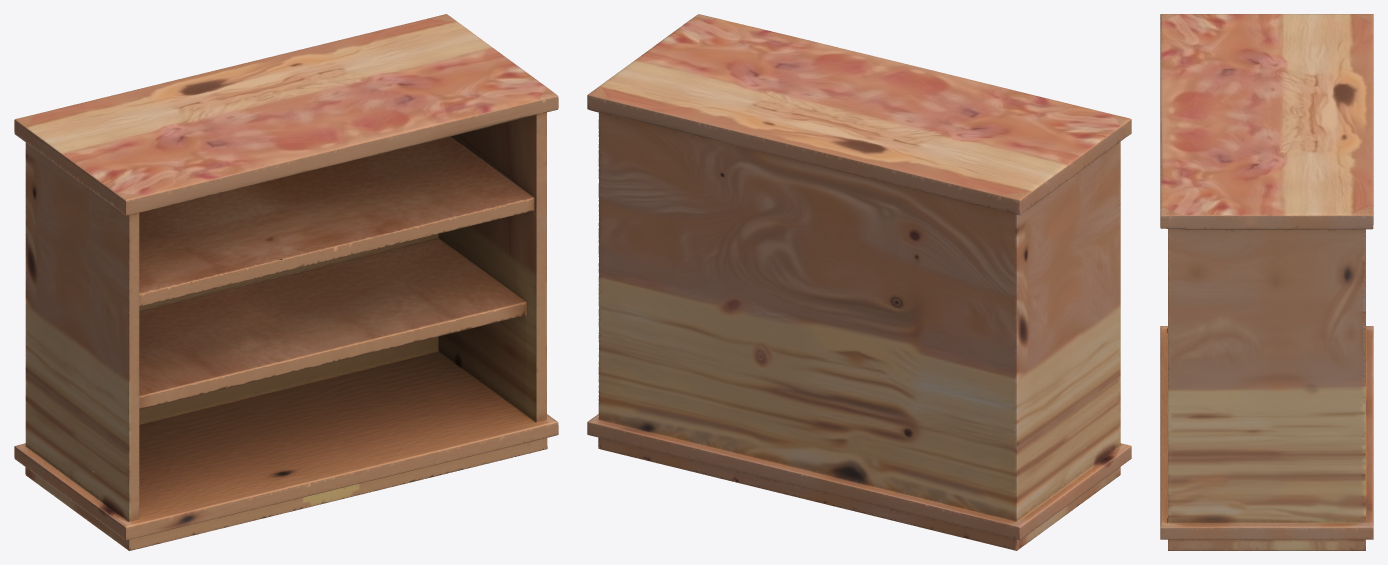
Rendered from cardShelf.glb.
3 views of the same model, side by side, from view 1: azimuth 30°, elevation 25°; view 2: azimuth 150°, elevation 25°; view 3: azimuth 270°, elevation 25° (orthographic). The views are drawn at different scales.
Bounding box in the file's own units: 1.9 × 1.49 × 0.8487.
1 material, 1 textured.
